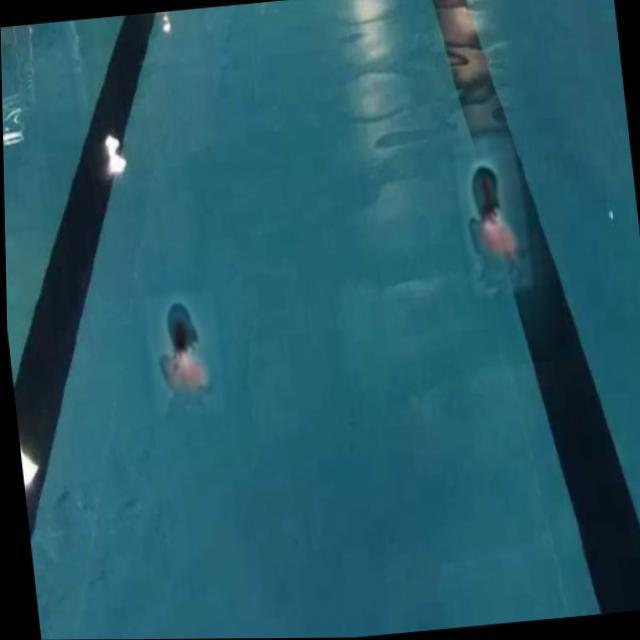swimming: (135, 283, 259, 425), (441, 147, 542, 302)
